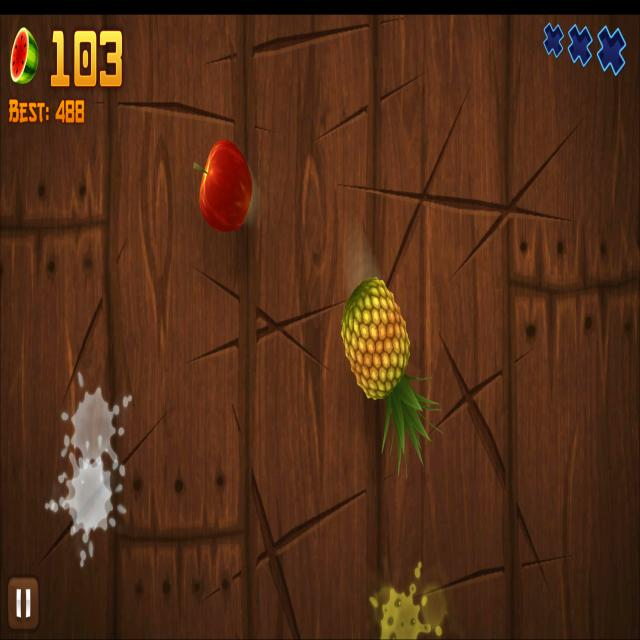fruit: (341, 276, 411, 402), (199, 140, 253, 232)
